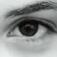eye: (20, 22, 38, 36)
